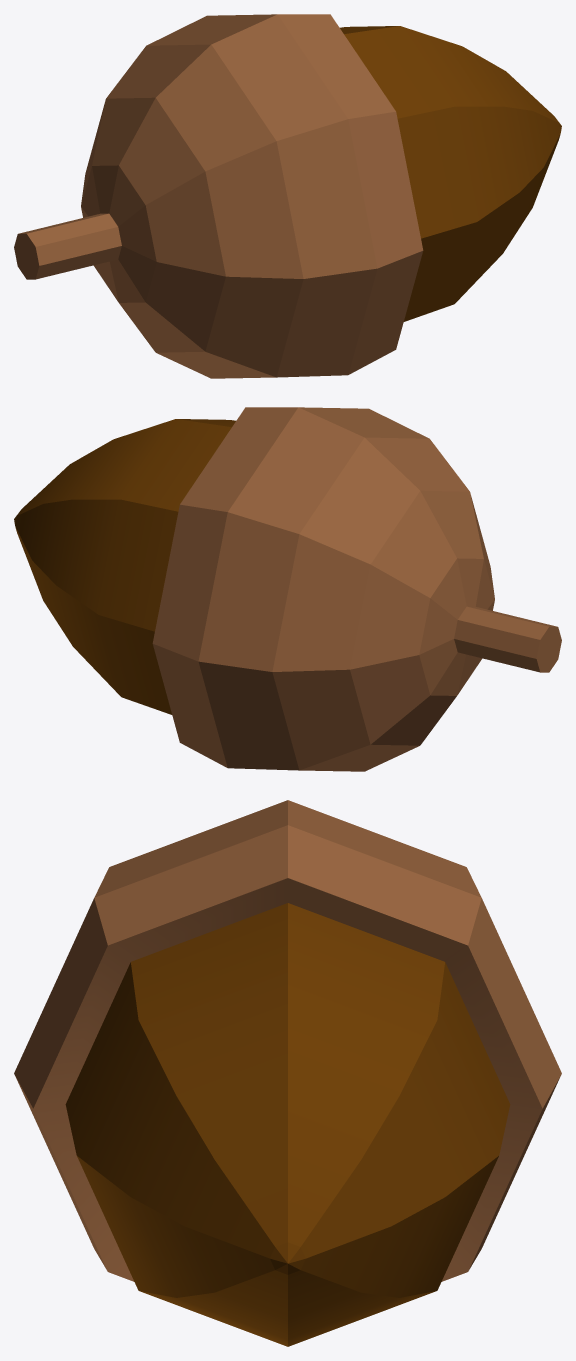
File: Bullet.fbx
The picture shows the model from 3 angles, top to bottom: view 1: azimuth 30°, elevation 25°; view 2: azimuth 150°, elevation 25°; view 3: azimuth 270°, elevation 25°; orthographic projection. The views are drawn at different scales.
Visible parts, largest first — view 1: pCone2; view 2: pCone2; view 3: pCone2.
Boxes of the visible parts, box(x1,y1,x2,y2) form: pCone2: box(14, 14, 561, 378); pCone2: box(14, 407, 561, 771); pCone2: box(14, 800, 561, 1346).
Size of the model in its own units: 3.53 by 2.28 by 2.28.
